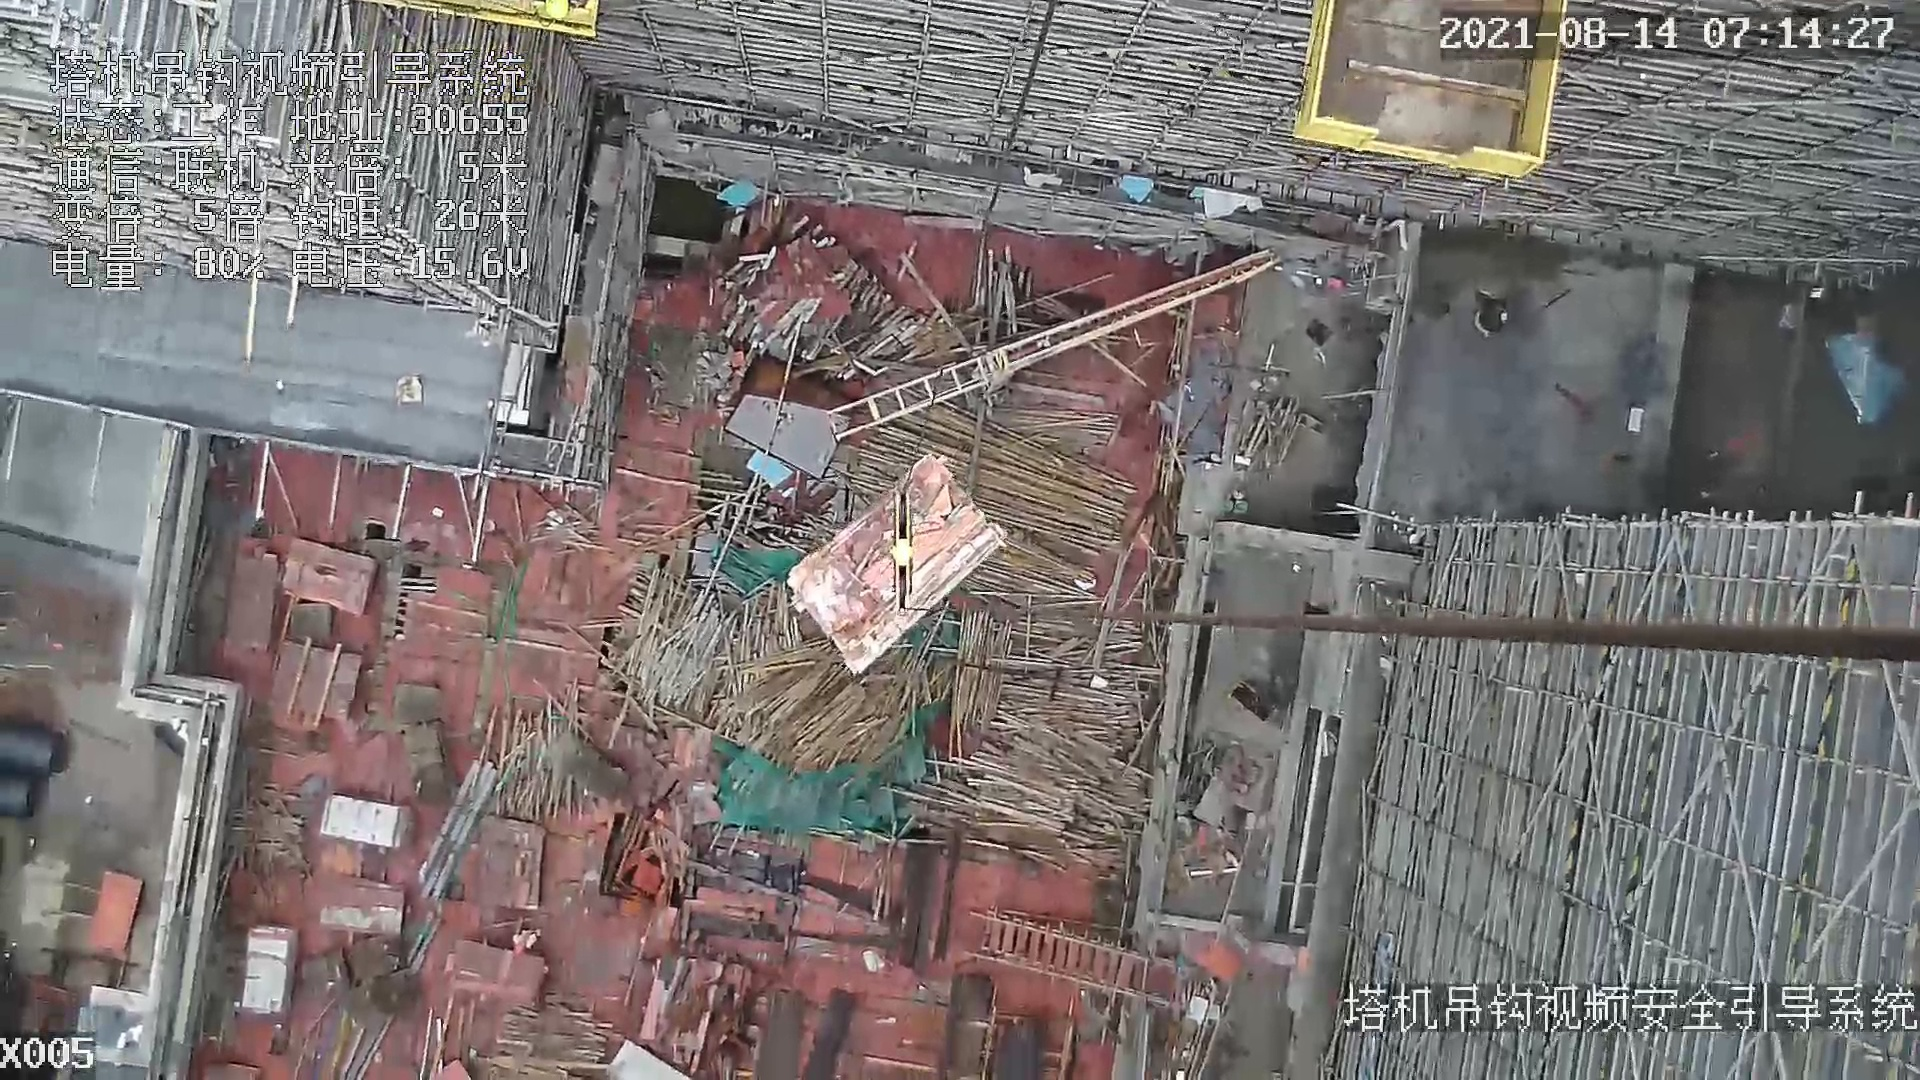hook: (890, 483, 931, 621)
